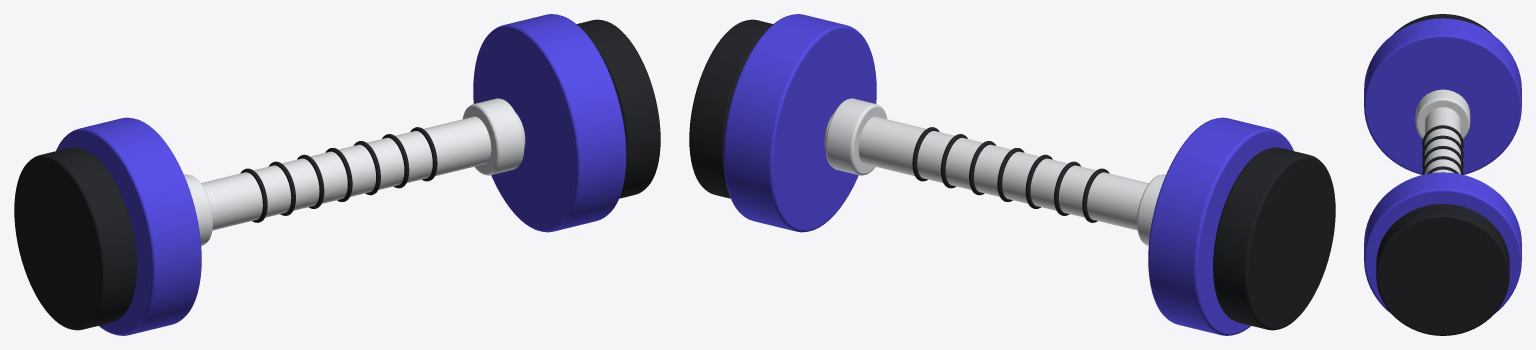
File: hero-dumbbell.glb
3 renders of one model, left to right at view 1: azimuth 30°, elevation 25°; view 2: azimuth 150°, elevation 25°; view 3: azimuth 270°, elevation 25°, orthographic. The views are drawn at different scales.
Parts seen in each view (by area): view 1: Plate.001, Plate rim, Plate, Handle, Plate rim.001, Collar.001, Collar; view 2: Plate.001, Plate rim, Plate, Handle, Plate rim.001, Collar.001, Collar; view 3: Plate, Plate rim.001, Plate.001, Handle, Collar, Plate rim, Knurl, Knurl.001, Knurl.002, Knurl.003.
Part boxes in pixels (x1=…): Plate.001: x1=473, y1=14, x2=626, y2=232; Plate rim: x1=14, y1=147, x2=136, y2=330; Plate: x1=56, y1=117, x2=201, y2=335; Handle: x1=201, y1=113, x2=525, y2=230; Plate rim.001: x1=576, y1=19, x2=660, y2=198; Collar.001: x1=462, y1=98, x2=524, y2=175; Collar: x1=184, y1=174, x2=212, y2=245; Plate.001: x1=723, y1=14, x2=876, y2=232; Plate rim: x1=1213, y1=147, x2=1335, y2=330; Plate: x1=1148, y1=117, x2=1293, y2=335; Handle: x1=824, y1=113, x2=1148, y2=230; Plate rim.001: x1=689, y1=19, x2=773, y2=198; Collar.001: x1=825, y1=98, x2=887, y2=175; Collar: x1=1137, y1=174, x2=1165, y2=245; Plate: x1=1364, y1=18, x2=1521, y2=174; Plate rim.001: x1=1376, y1=204, x2=1509, y2=335; Plate.001: x1=1364, y1=172, x2=1521, y2=313; Handle: x1=1424, y1=107, x2=1461, y2=174; Collar: x1=1415, y1=89, x2=1470, y2=138; Plate rim: x1=1393, y1=14, x2=1492, y2=34; Knurl: x1=1422, y1=125, x2=1463, y2=148; Knurl.001: x1=1422, y1=135, x2=1463, y2=159; Knurl.002: x1=1422, y1=146, x2=1463, y2=169; Knurl.003: x1=1422, y1=156, x2=1463, y2=174.
Size of the model in its own units: 0.79 by 0.26 by 0.26.
